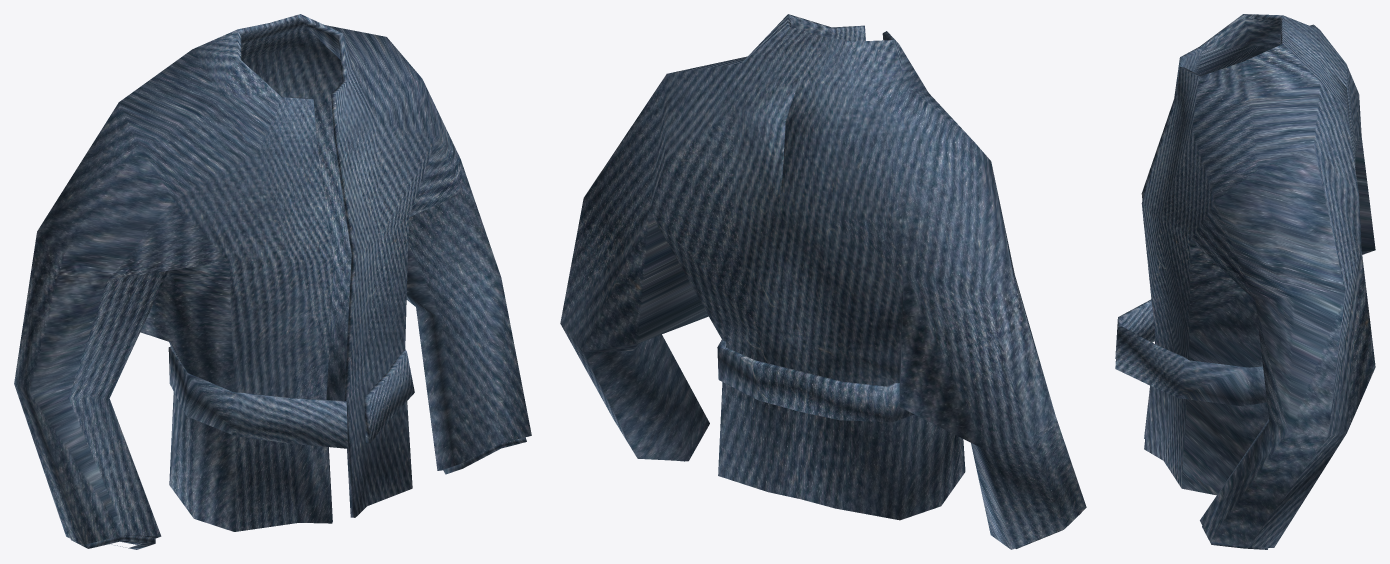
The model's file is Jacket_animacoes_textura.gltf.
3 renders of one model, left to right at view 1: azimuth 30°, elevation 25°; view 2: azimuth 150°, elevation 25°; view 3: azimuth 270°, elevation 25°, orthographic. The views are drawn at different scales.
Parts seen in each view (by area): view 1: Cube; view 2: Cube; view 3: Cube.
Part boxes in pixels (box(x1,y1,x2,y2)): Cube: box(14, 14, 531, 549); Cube: box(560, 14, 1086, 549); Cube: box(1115, 14, 1375, 549).
Bounding box in the file's own units: 0.7306 × 0.7037 × 0.3752.
1 material, 1 textured.
